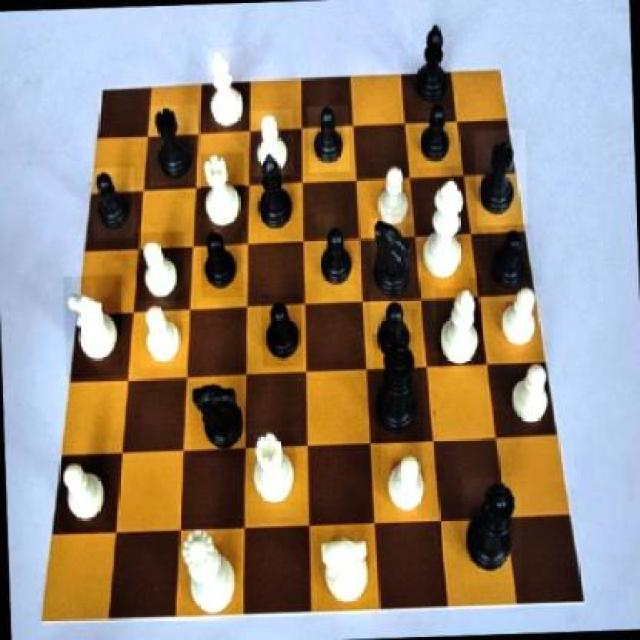bishop: (255, 152, 300, 245), (410, 17, 454, 111)
black-bishop: (372, 332, 426, 446)
black-king: (188, 374, 248, 458), (370, 217, 418, 310)
black-knight: (488, 224, 534, 298), (198, 223, 242, 299), (316, 214, 354, 301), (369, 294, 413, 368), (92, 168, 137, 240), (260, 294, 303, 368), (417, 97, 460, 168), (308, 106, 350, 174)
black-pawn: (462, 476, 522, 584)
black-queen: (474, 130, 528, 226), (148, 104, 200, 186)
black-rook: (436, 277, 484, 369), (208, 47, 248, 132)
white-bishop: (417, 166, 469, 289)
white-king: (63, 274, 123, 377), (317, 526, 380, 616)
white-knight: (59, 455, 116, 531), (378, 442, 432, 518), (134, 231, 184, 301), (509, 360, 554, 434), (139, 303, 186, 369), (497, 280, 540, 352), (248, 109, 294, 176), (371, 160, 412, 233)
white-pawn: (178, 529, 242, 620)
white-queen: (248, 428, 300, 518), (198, 152, 246, 232)
